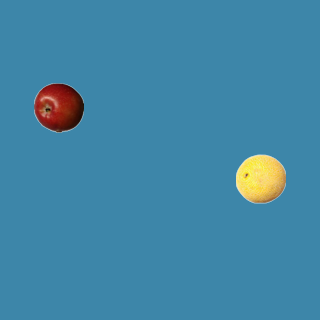Apple Braeburn: (33, 82, 83, 132)
Cantaloupe 1: (235, 153, 285, 203)
